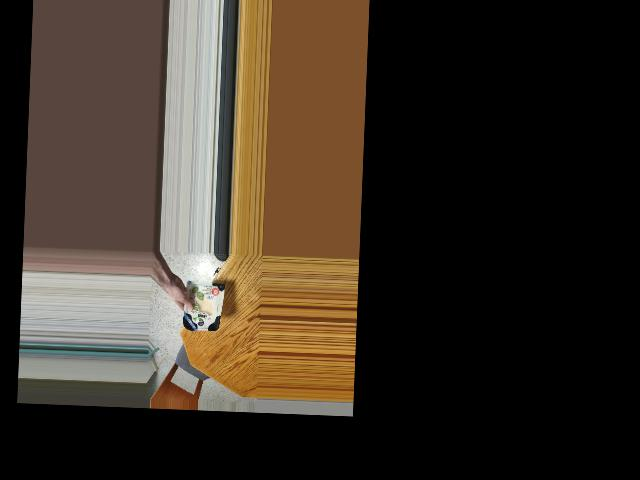cheese: (184, 272, 225, 340)
